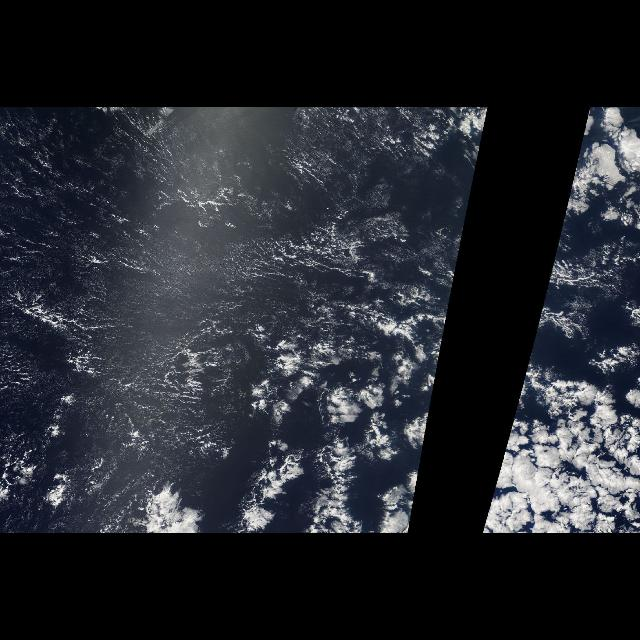Flower: (225, 339, 443, 533), (481, 293, 639, 533)
Gravel: (112, 342, 234, 463)
Sugar: (0, 110, 446, 480)
